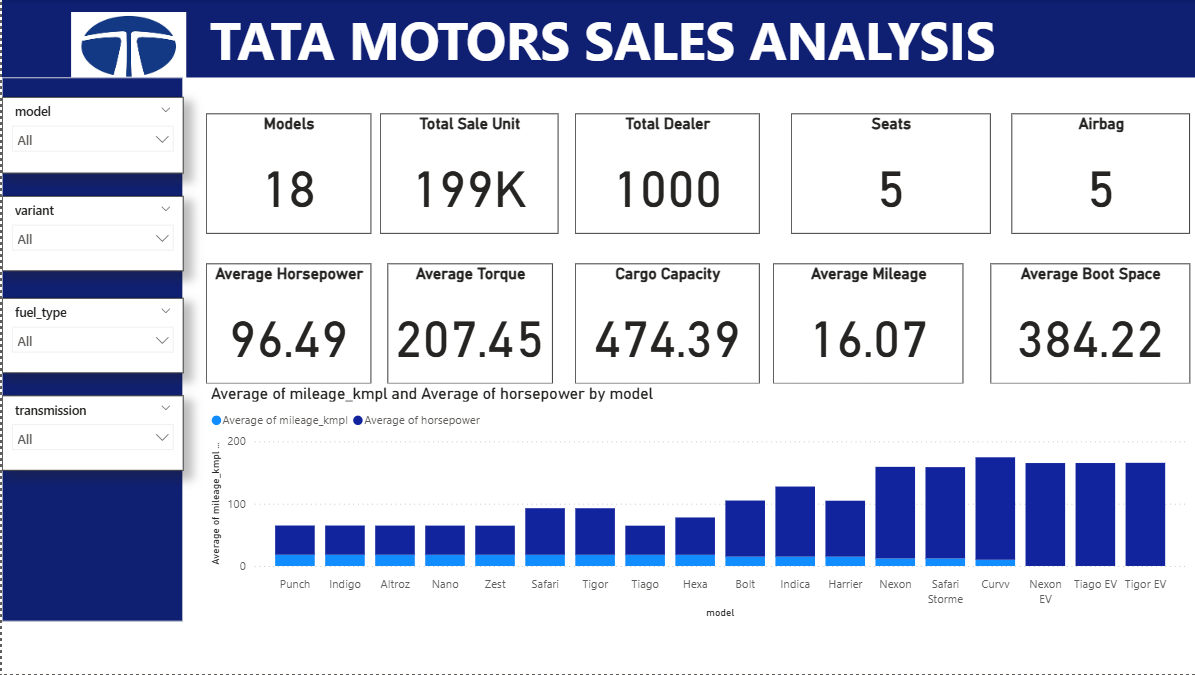

The dashboard page shown, as its layout file describes it:
{"tool":"powerbi","page":{"name":"Page 2","canvas":[1280,720],"ordinal":1},"visuals":[{"type":"textbox","box":[0,0,1279.4,84.8],"z":0},{"type":"image","box":[10,10,251.1,85.3],"z":1000},{"type":"textbox","box":[0,85.3,192.6,579.5],"z":2000},{"type":"card","title":"Models","fields":{"Values":["Count(tata_cars_100k.model)"]},"box":[217.3,123,175.7,127.8],"z":3000},{"type":"card","title":"Total Sale Unit","fields":{"Values":["Sum(tata_cars_100k.sales_units)"]},"box":[402.6,123,190.1,127.8],"z":4000},{"type":"card","title":"Total Dealer","fields":{"Values":["Count(tata_cars_100k.dealer_id)"]},"box":[610.3,123,196.5,127.8],"z":5000},{"type":"slicer","fields":{"Values":["tata_cars_100k.model"]},"box":[0,105.4,193.3,81.5],"z":6000},{"type":"slicer","fields":{"Values":["tata_cars_100k.fuel_type"]},"box":[0,319.5,193.3,79.9],"z":7000},{"type":"card","title":"Seats","fields":{"Values":["Max(tata_cars_100k.seats)"]},"box":[840.4,123,212.5,127.8],"z":8000},{"type":"card","title":"Average Boot Space","fields":{"Values":["Avg(tata_cars_100k.boot_ltr)"]},"box":[1052.9,282.8,212.5,127.8],"z":9000},{"type":"card","title":"Average Mileage","fields":{"Values":["Avg(tata_cars_100k.mileage_kmpl)"]},"box":[821.2,282.8,202.9,127.8],"z":10000},{"type":"card","title":"Cargo Capacity","fields":{"Values":["Avg(tata_cars_100k.cargo_capacity_l)"]},"box":[610.3,282.8,196.5,127.8],"z":11000},{"type":"card","title":"Airbag","fields":{"Values":["Count(tata_cars_100k.airbags)"]},"box":[1075.2,123,190.1,127.8],"z":12000},{"type":"card","title":"Average Horsepower","fields":{"Values":["Avg(tata_cars_100k.horsepower)"]},"box":[217.3,282.8,175.7,127.8],"z":13000},{"type":"slicer","fields":{"Values":["tata_cars_100k.variant"]},"box":[0,210.9,193.3,79.9],"z":14000},{"type":"slicer","fields":{"Values":["tata_cars_100k.transmission"]},"box":[0,423.4,193.3,79.9],"z":15000},{"type":"card","title":"Average Torque","fields":{"Values":["Avg(tata_cars_100k.torque_nm)"]},"box":[410.6,282.8,175.7,127.8],"z":16000},{"type":"columnChart","fields":{"Y":["Avg(tata_cars_100k.mileage_kmpl)","Avg(tata_cars_100k.horsepower)"],"Category":["tata_cars_100k.model"]},"box":[217.3,410.6,1048.1,254],"z":17000}]}

Visuals, with their boxes in screenshot pixels (x1, y1, x2, y2), scaled from the page's 1280x720 canvas onto the 1195x675 screenshot:
textbox: {"x1": 0, "y1": 0, "x2": 1194, "y2": 80}
image: {"x1": 9, "y1": 9, "x2": 244, "y2": 89}
textbox: {"x1": 0, "y1": 80, "x2": 180, "y2": 623}
"Models" card: {"x1": 203, "y1": 115, "x2": 367, "y2": 235}
"Total Sale Unit" card: {"x1": 376, "y1": 115, "x2": 553, "y2": 235}
"Total Dealer" card: {"x1": 570, "y1": 115, "x2": 753, "y2": 235}
slicer - tata_cars_100k.model: {"x1": 0, "y1": 99, "x2": 180, "y2": 175}
slicer - tata_cars_100k.fuel_type: {"x1": 0, "y1": 300, "x2": 180, "y2": 374}
"Seats" card: {"x1": 785, "y1": 115, "x2": 983, "y2": 235}
"Average Boot Space" card: {"x1": 983, "y1": 265, "x2": 1181, "y2": 385}
"Average Mileage" card: {"x1": 767, "y1": 265, "x2": 956, "y2": 385}
"Cargo Capacity" card: {"x1": 570, "y1": 265, "x2": 753, "y2": 385}
"Airbag" card: {"x1": 1004, "y1": 115, "x2": 1181, "y2": 235}
"Average Horsepower" card: {"x1": 203, "y1": 265, "x2": 367, "y2": 385}
slicer - tata_cars_100k.variant: {"x1": 0, "y1": 198, "x2": 180, "y2": 273}
slicer - tata_cars_100k.transmission: {"x1": 0, "y1": 397, "x2": 180, "y2": 472}
"Average Torque" card: {"x1": 383, "y1": 265, "x2": 547, "y2": 385}
columnChart - Avg(tata_cars_100k.mileage_kmpl) x Avg(tata_cars_100k.horsepower): {"x1": 203, "y1": 385, "x2": 1181, "y2": 623}
